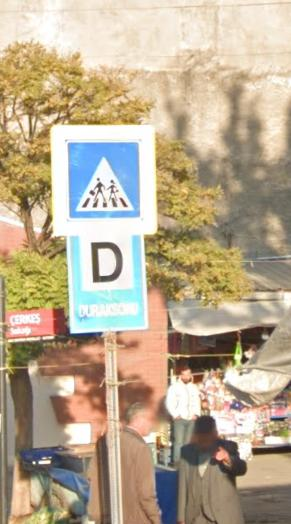station: (85, 240, 134, 289)
